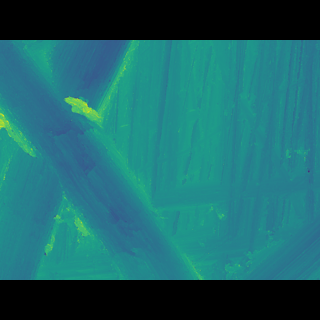Loch: (0, 75, 208, 250)
